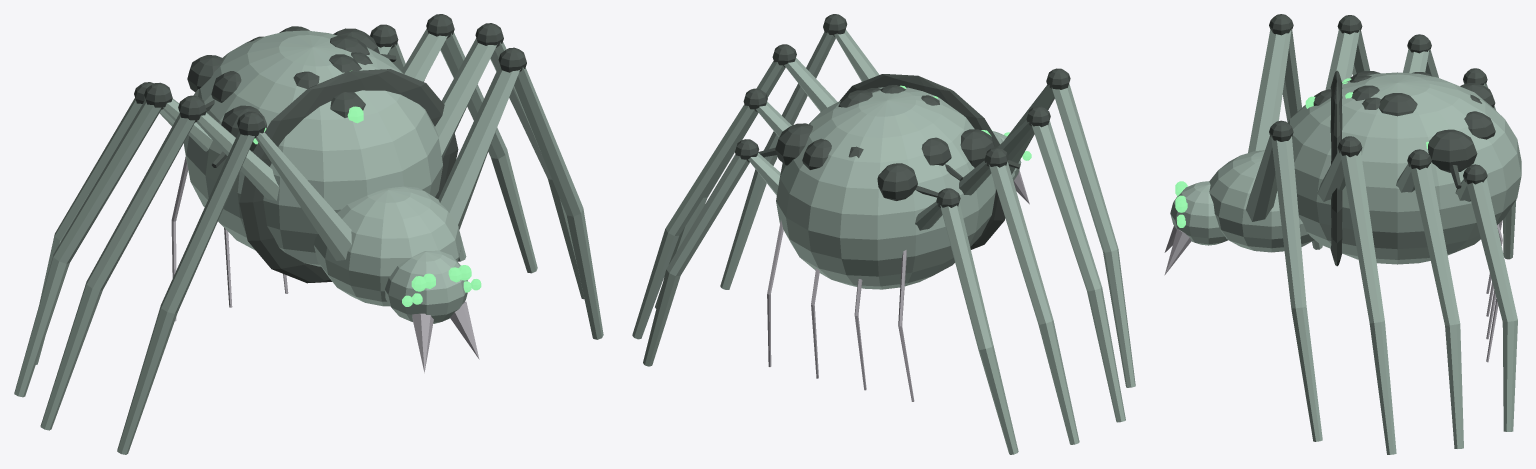
The model's file is silkmother.glb.
3 views of the same model, side by side, from view 1: azimuth 30°, elevation 25°; view 2: azimuth 150°, elevation 25°; view 3: azimuth 270°, elevation 25° (orthographic). The views are drawn at different scales.
Parts seen in each view (by area): view 1: silkmother_body, silkmother_dark, silkmother_bone, silkmother_glow; view 2: silkmother_body, silkmother_dark, silkmother_bone; view 3: silkmother_body, silkmother_dark, silkmother_bone, silkmother_glow.
Part boxes in pixels (x1,y1,x2,y2): silkmother_body: (14,28,603,454); silkmother_dark: (134,14,526,283); silkmother_bone: (171,157,479,372); silkmother_glow: (253,70,481,306); silkmother_body: (632,29,1135,454); silkmother_dark: (735,14,1070,249); silkmother_bone: (767,170,1029,401); silkmother_body: (1170,29,1521,454); silkmother_dark: (1269,14,1495,266); silkmother_bone: (1164,220,1502,362); silkmother_glow: (1175,78,1428,227).
Bounding box in the file's own units: 2.26 × 1.3 × 1.52.
